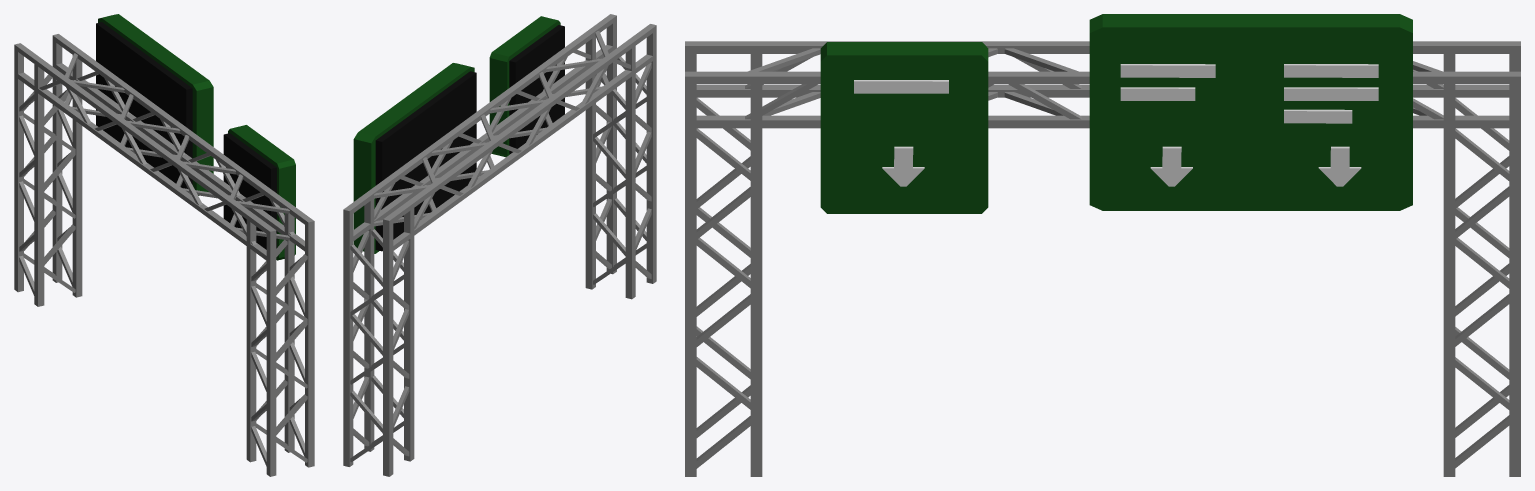
File: Signal_05.FBX
3 views of the same model, side by side, from view 1: azimuth 30°, elevation 25°; view 2: azimuth 150°, elevation 25°; view 3: azimuth 270°, elevation 25° (orthographic). The views are drawn at different scales.
Parts seen in each view (by area): view 1: Signal_05; view 2: Signal_05; view 3: Signal_05.
Part boxes in pixels (x1,y1,x2,y2): Signal_05: [14, 14, 314, 476]; Signal_05: [343, 14, 656, 476]; Signal_05: [685, 14, 1520, 476].
Bounding box in the file's own units: 4.32 × 17.1 × 27.7.
